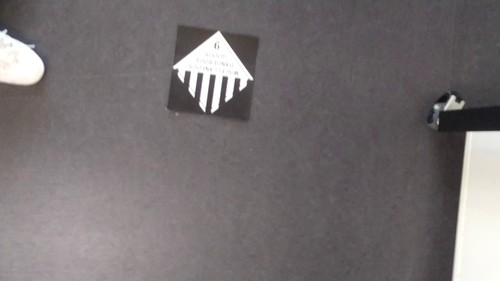misgoods: (174, 30, 255, 116)
